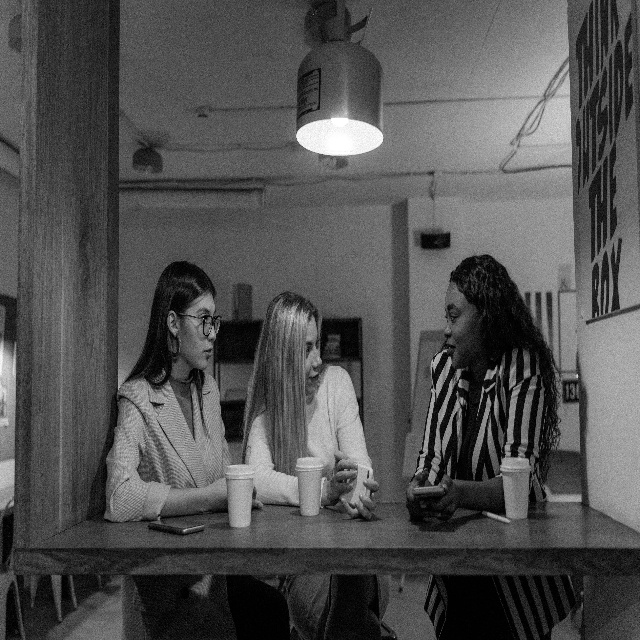Gafas: (178, 308, 222, 336)
Sin_guantes: (325, 449, 361, 508), (214, 475, 264, 514), (340, 478, 381, 521), (405, 466, 434, 521), (426, 474, 459, 521)
